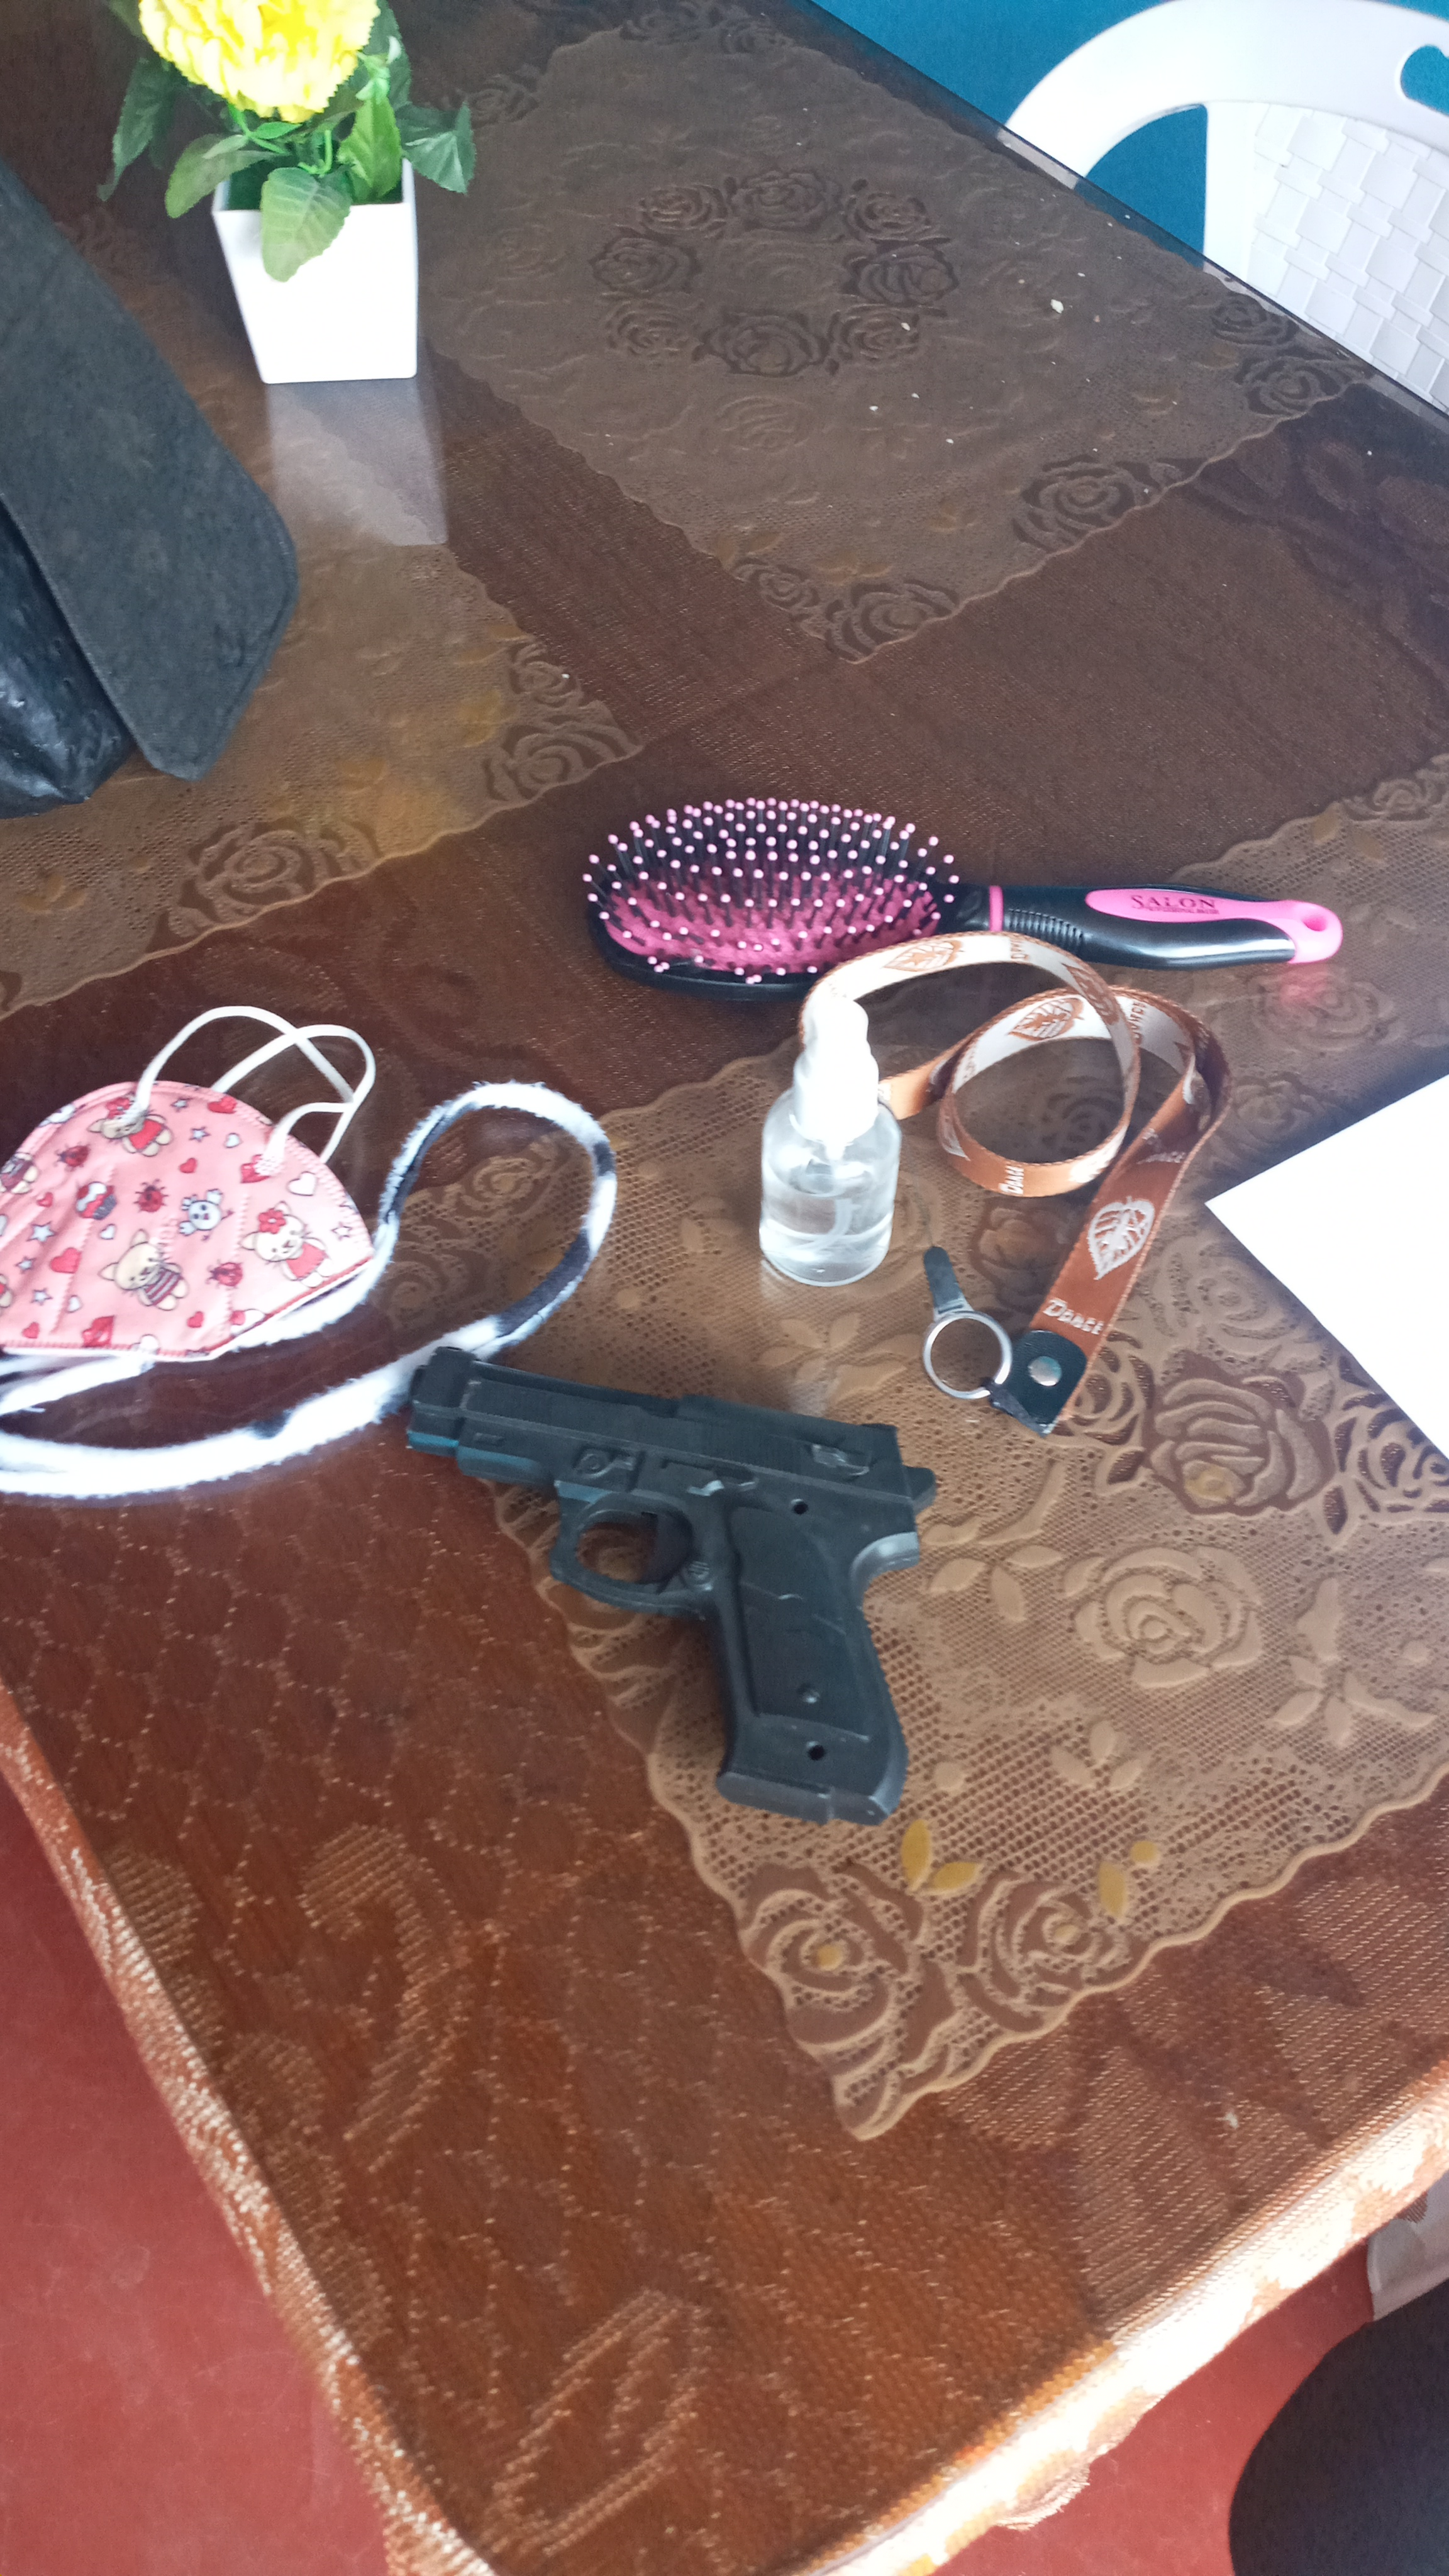Arma: (403, 1352, 947, 1674)
